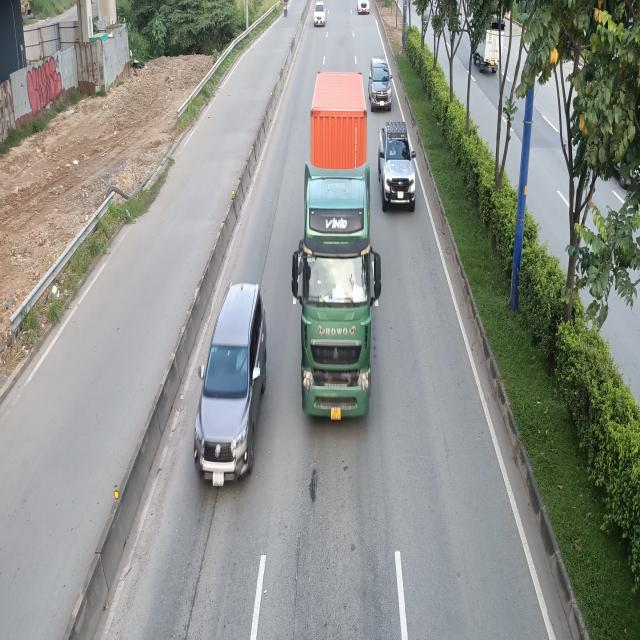car: (196, 282, 267, 483), (376, 120, 415, 212), (368, 59, 394, 113)
container: (291, 72, 381, 426)
